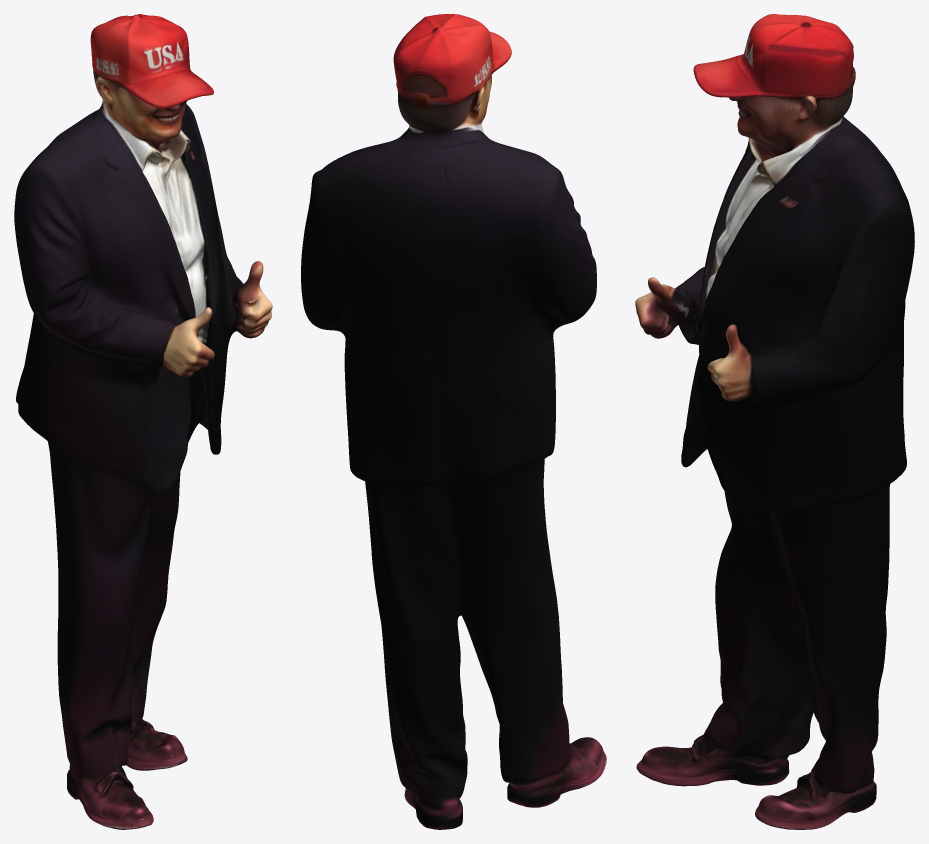
The model's file is DonnieJ.glb.
The picture shows the model from 3 angles, left to right: view 1: azimuth 30°, elevation 25°; view 2: azimuth 150°, elevation 25°; view 3: azimuth 270°, elevation 25°; orthographic projection. The views are drawn at different scales.
Parts seen in each view (by area): view 1: Mesh_0; view 2: Mesh_0; view 3: Mesh_0.
Boxes of the visible parts, x1,y1,x2,y2 form: Mesh_0: (14,14,272,829); Mesh_0: (301,14,606,829); Mesh_0: (635,14,914,829).
Size of the model in its own units: 0.7038 by 2.2 by 0.7035.
Materials: 1 (1 with a texture image).
